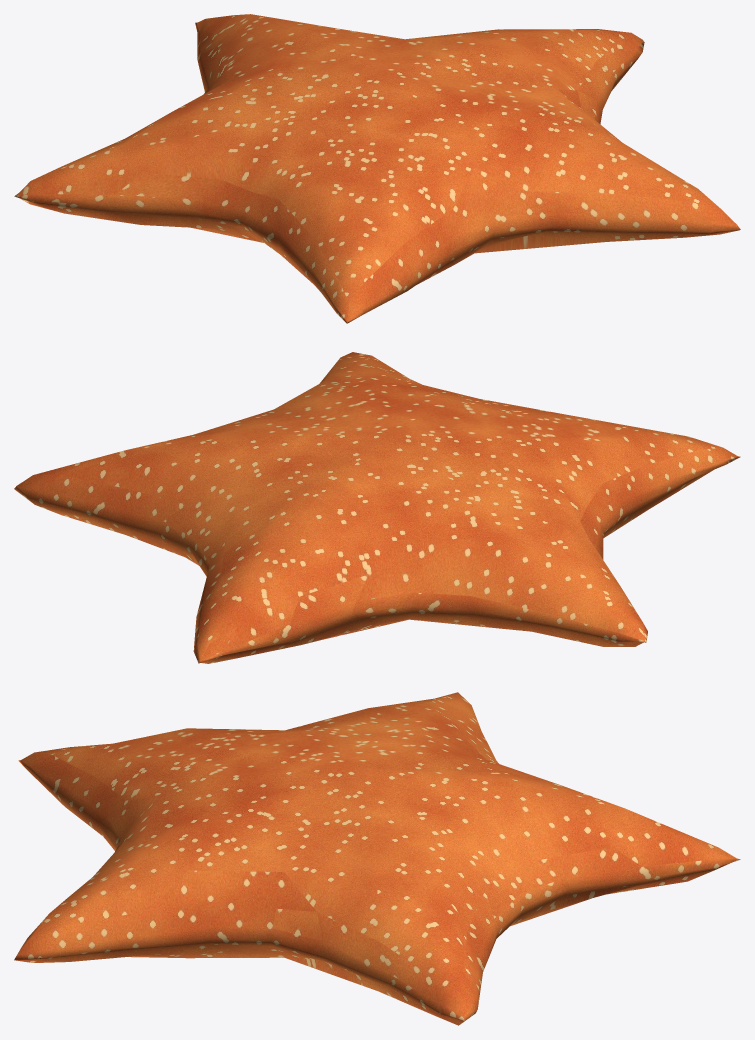
The model's file is estrella_mar.fbx.
3 views of the same model, one above another, from view 1: azimuth 30°, elevation 25°; view 2: azimuth 150°, elevation 25°; view 3: azimuth 270°, elevation 25° (orthographic). The views are drawn at different scales.
Visible parts, largest first — view 1: estrella_mar; view 2: estrella_mar; view 3: estrella_mar.
Boxes of the visible parts, x1=… form: estrella_mar: x1=14, y1=14, x2=740, y2=323; estrella_mar: x1=14, y1=352, x2=740, y2=663; estrella_mar: x1=14, y1=692, x2=740, y2=1025.
Size of the model in its own units: 0.3 by 0.0582 by 0.2871.
1 material, 1 textured.
